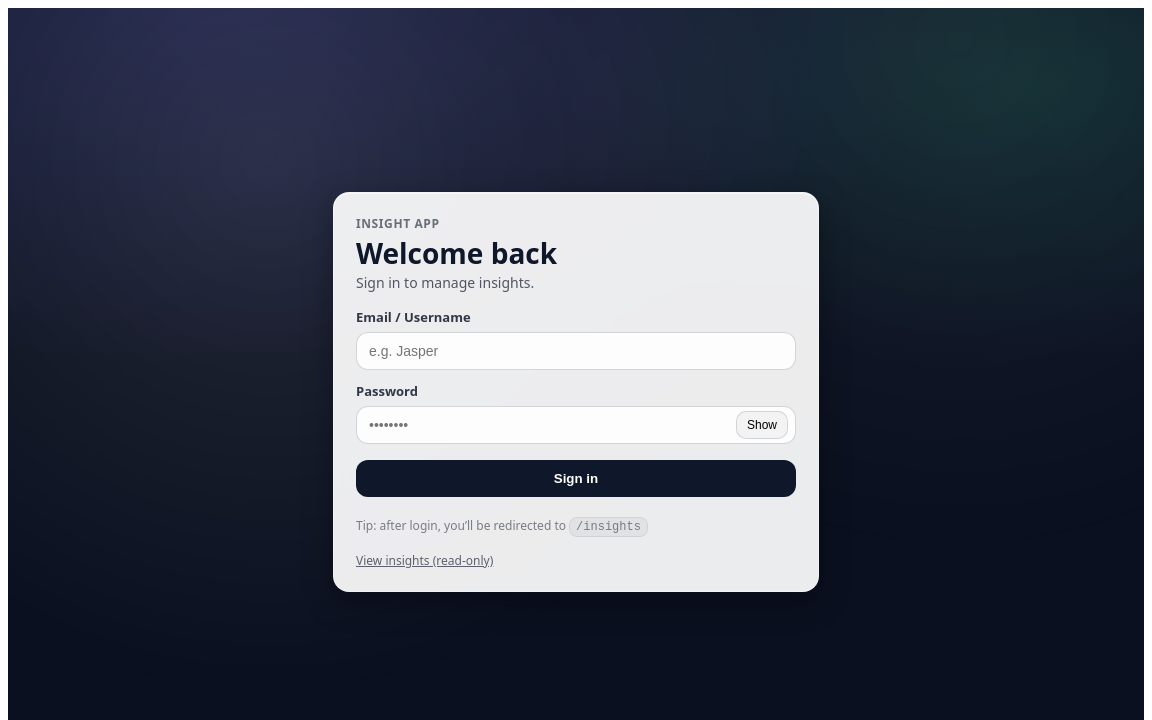
Test case: LoginPage › shows form error + backend field errors when loginApi fails with errors
The width and height of the screenshot is (1152, 720).
Type "Jasper" into the field with placeholder "e.g. Jasper" at {"x": 576, "y": 351}, box [356,332,796,370]
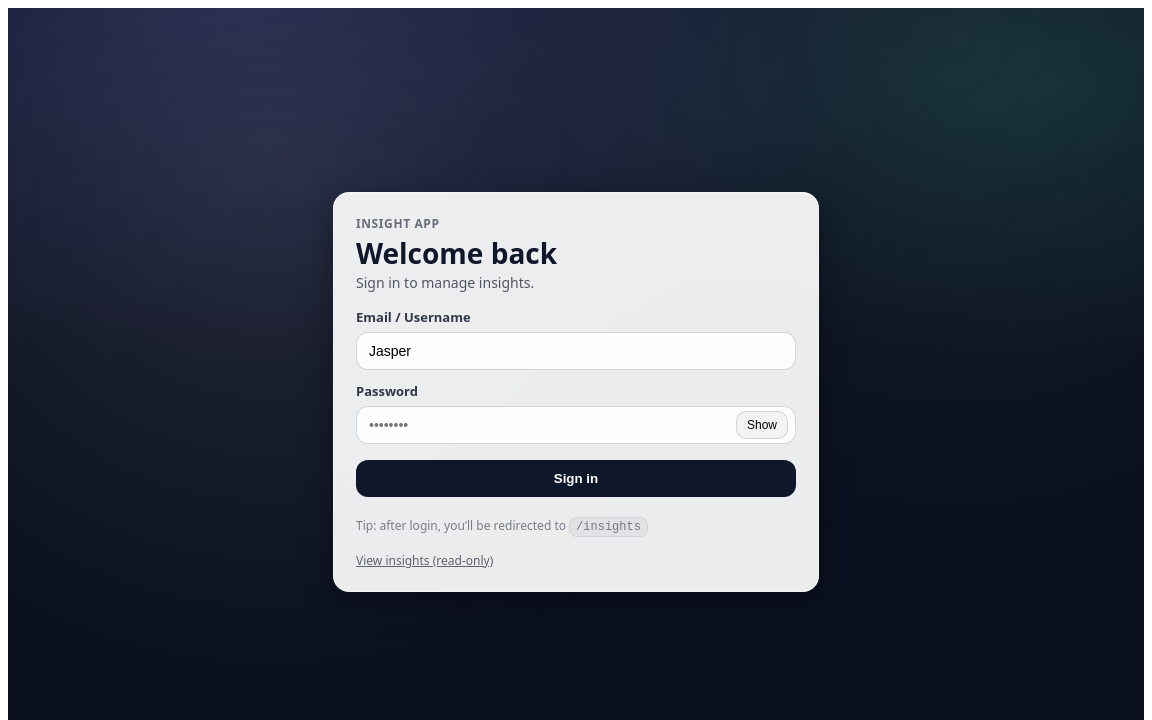
Type "password123" into the password field with placeholder "••••••••" at {"x": 576, "y": 425}, box [356,406,796,444]
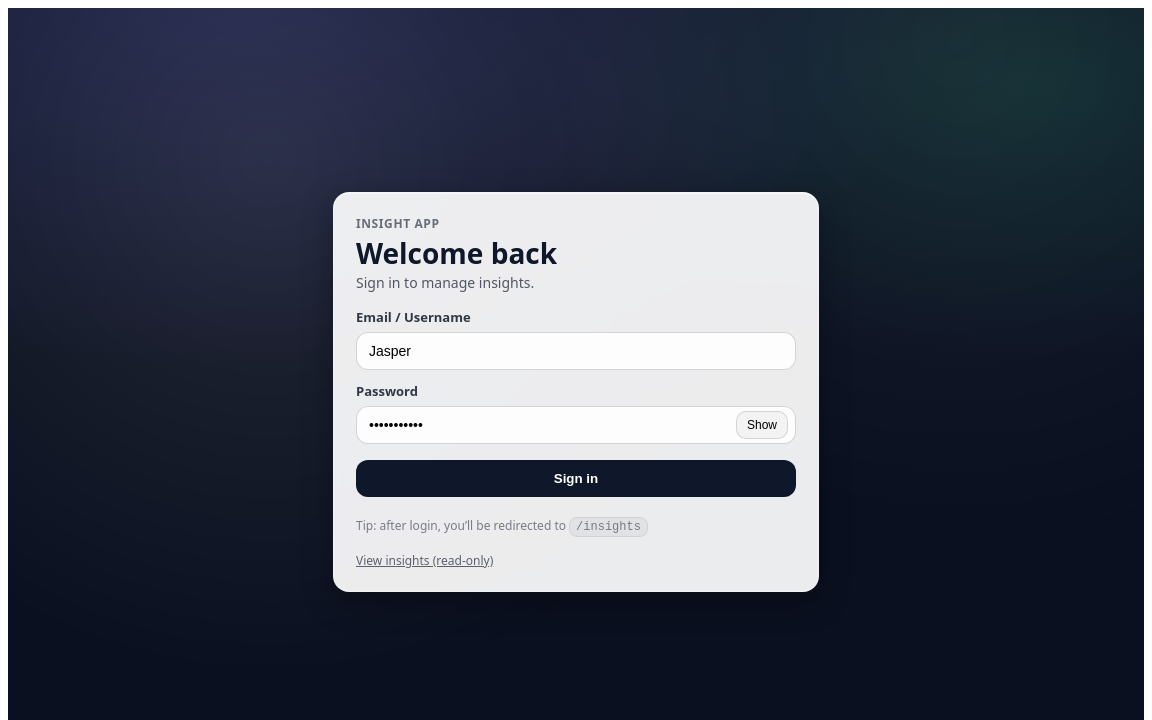
Click the button "Sign in" at {"x": 576, "y": 478}, box [356,460,796,497]
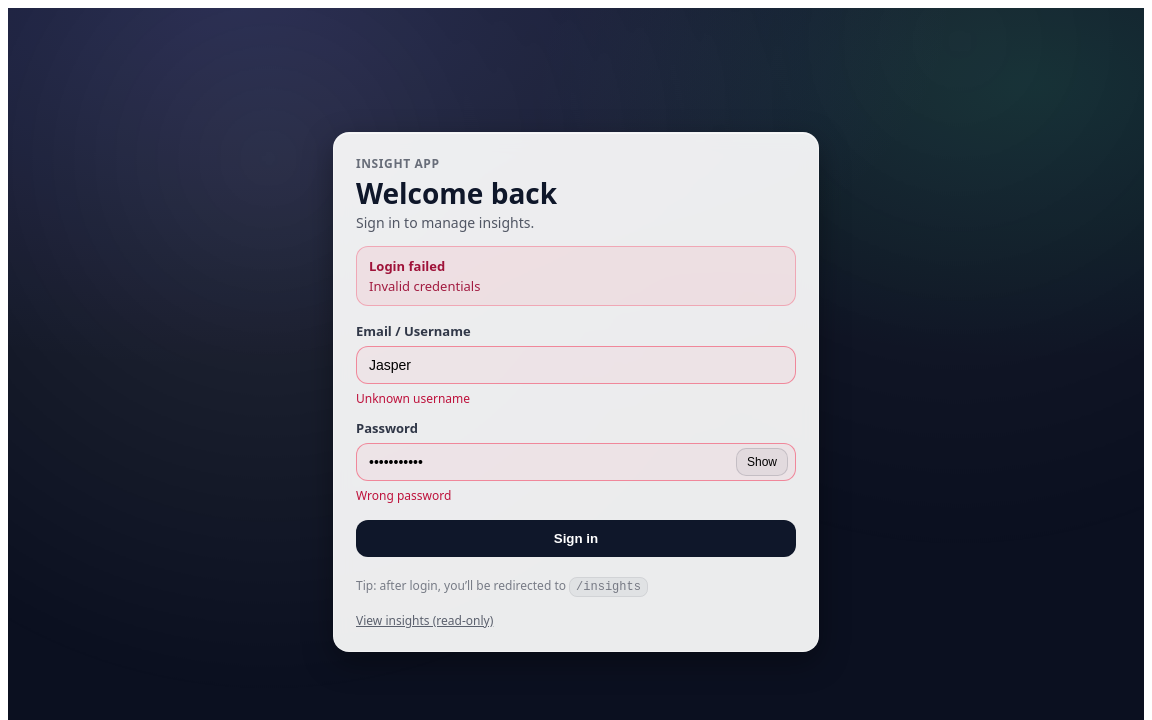
Expected: the text "Login failed" is shown, [369,257,445,275]
Expected: the text "Invalid credentials" is shown, [369,277,480,295]
Expected: the text "Unknown username" is shown, [356,390,470,407]
